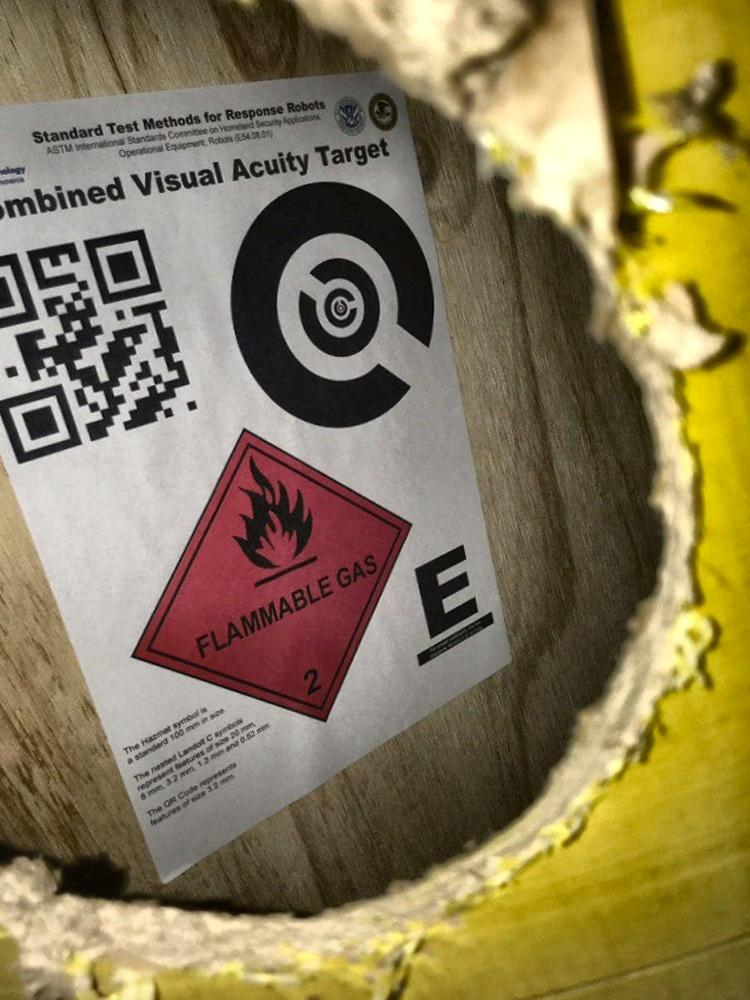flammable: (124, 427, 411, 723)
